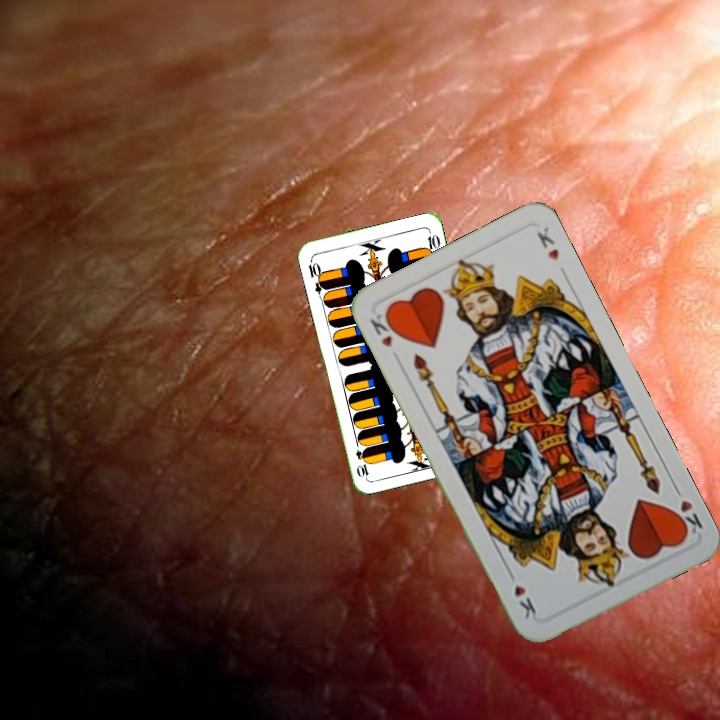E10: (304, 256, 329, 296)
HK: (668, 481, 705, 539), (366, 308, 401, 350)
